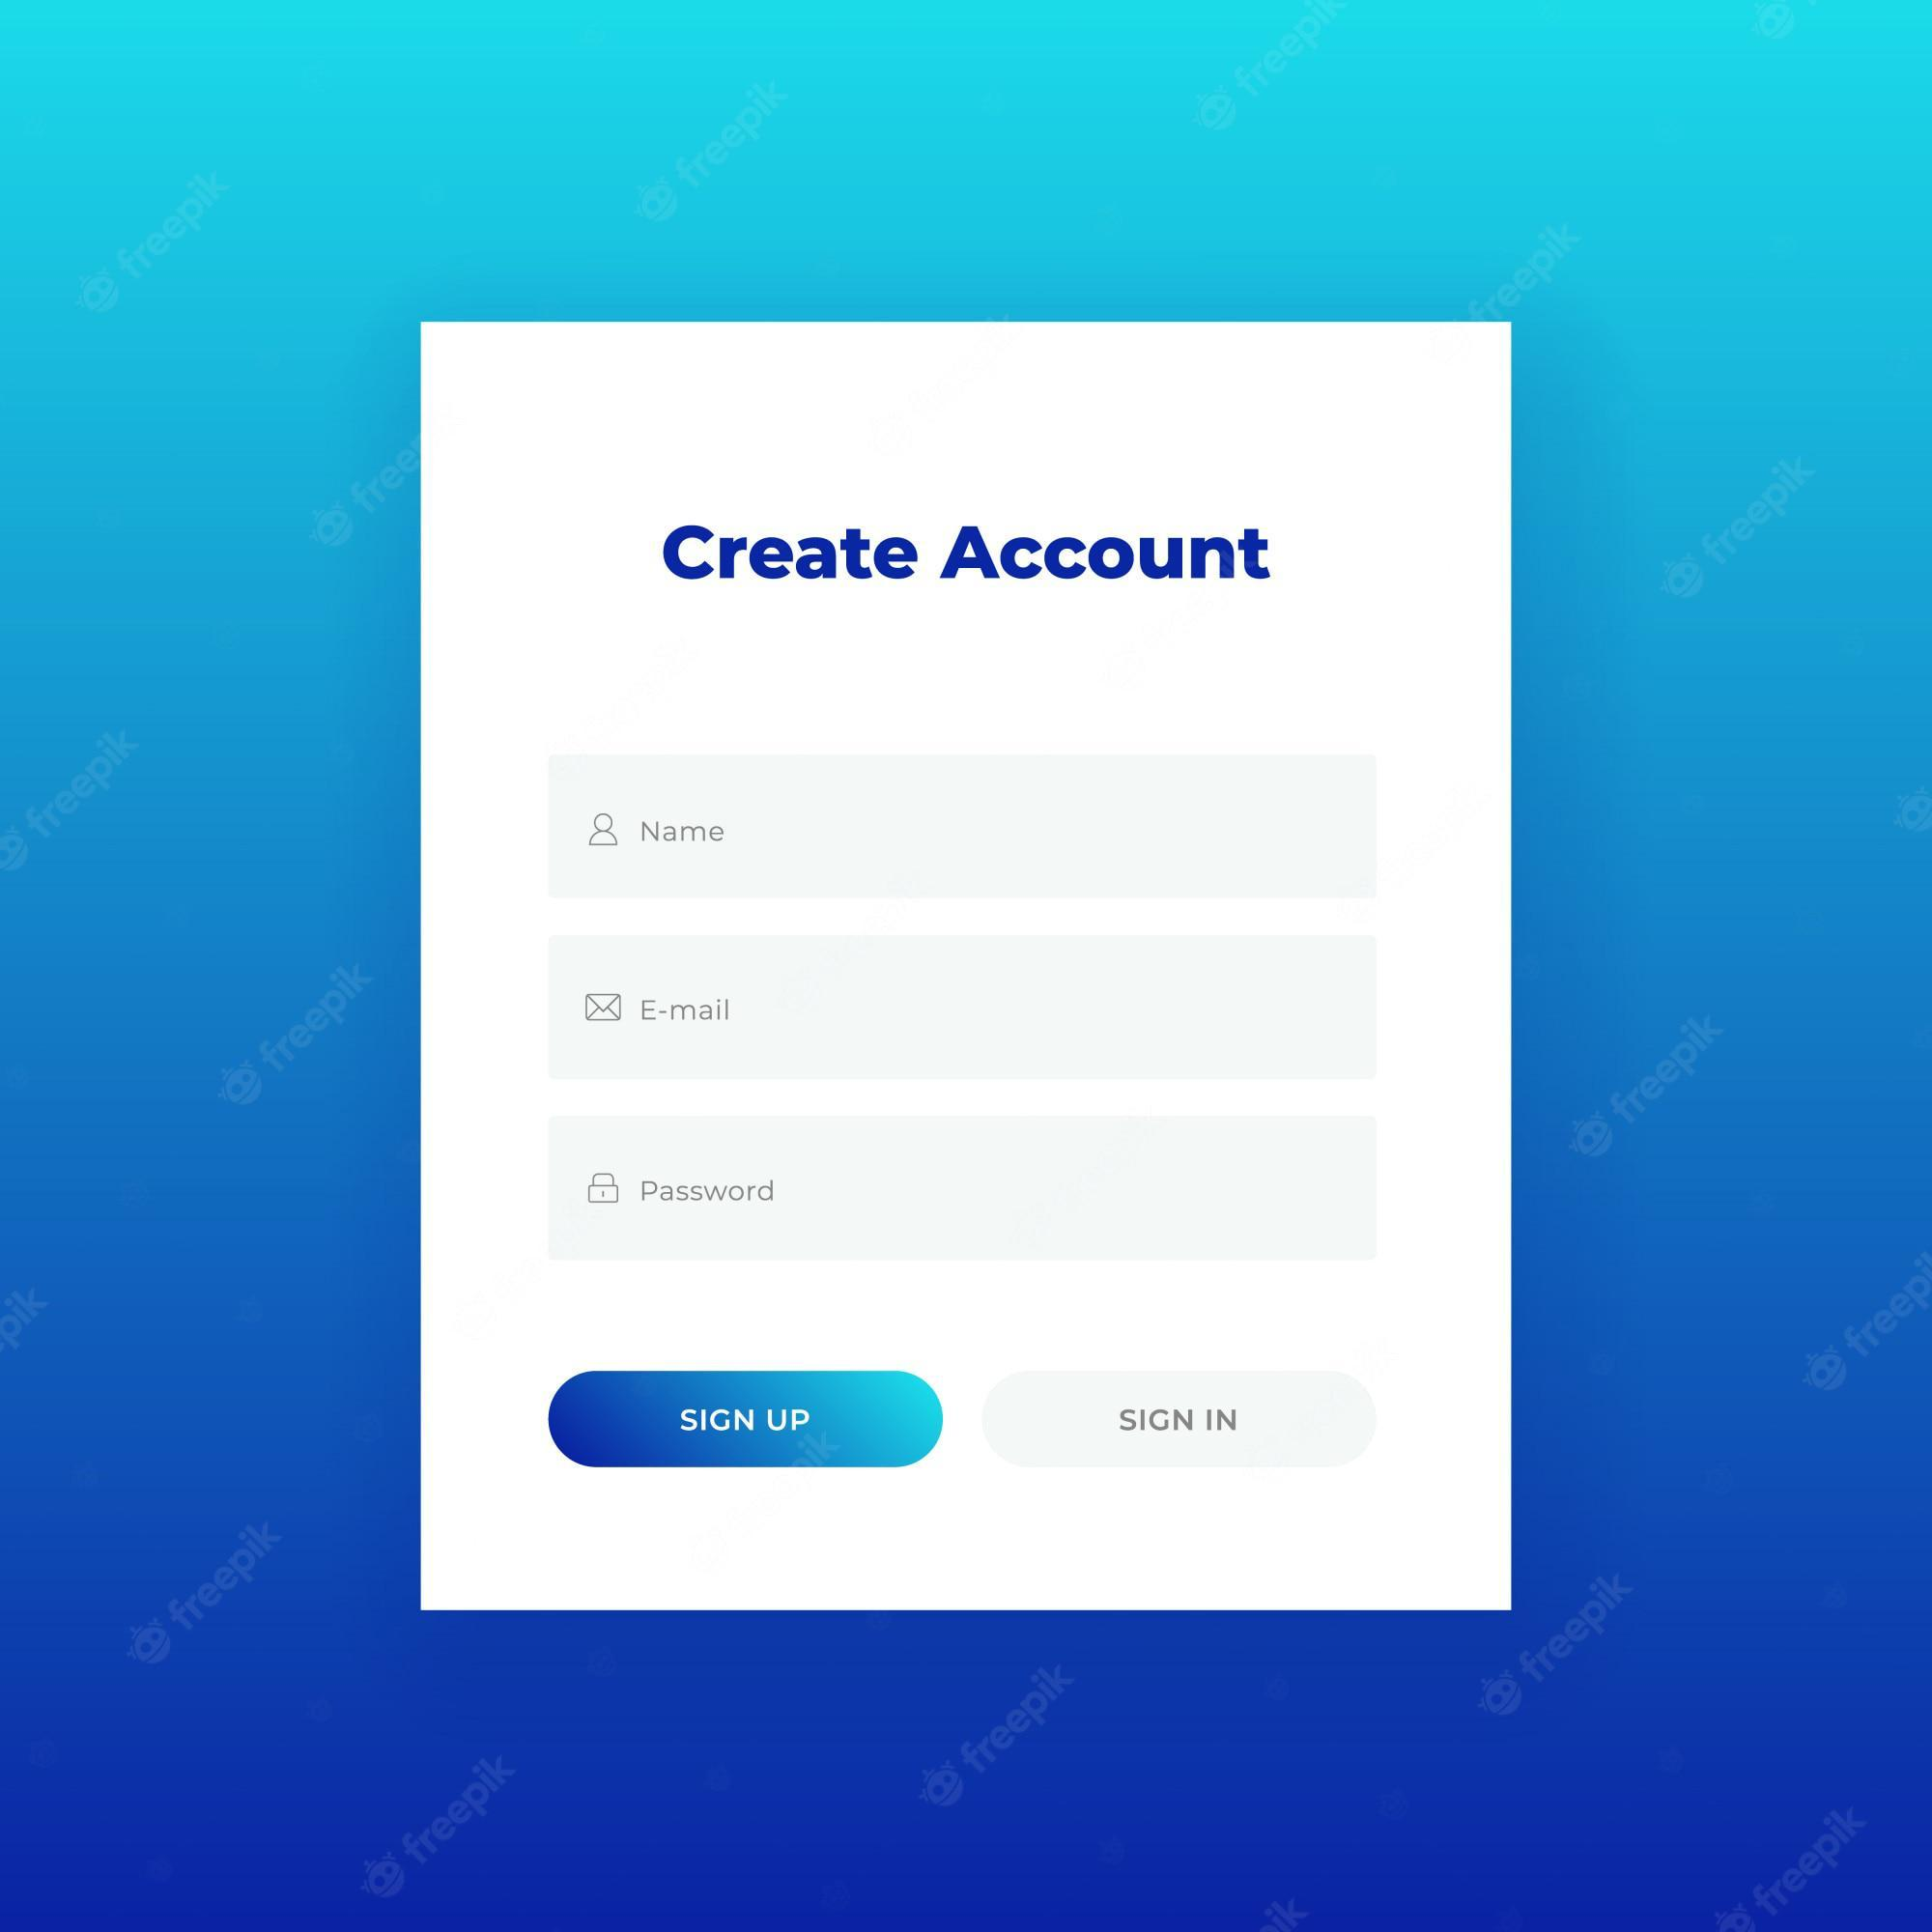button: (552, 1369, 947, 1472), (977, 1366, 1382, 1465)
input: (547, 1104, 1382, 1261), (543, 754, 1382, 904), (550, 929, 1382, 1079)
